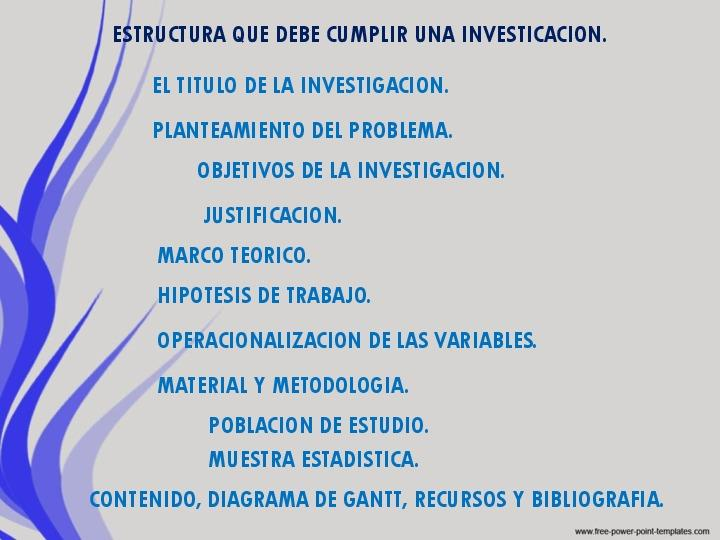paragraph: (77, 69, 707, 523)
title: (104, 14, 616, 52)
